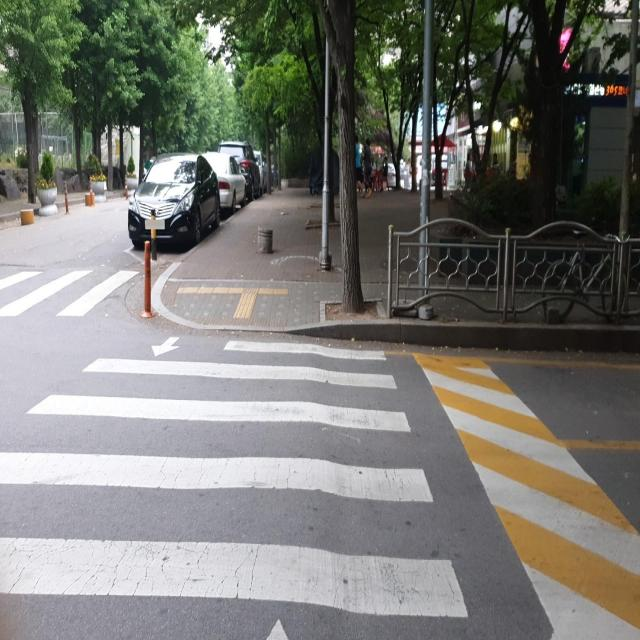횡단보도: (0, 334, 468, 640), (0, 266, 143, 324)
